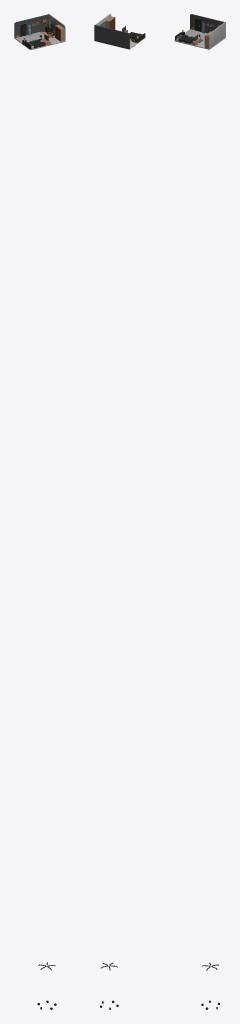
The model's file is bedroom.glb.
3 renders of one model, left to right at view 1: azimuth 30°, elevation 25°; view 2: azimuth 150°, elevation 25°; view 3: azimuth 330°, elevation 25°, orthographic.
Parts seen in each view (by area): view 1: Wall 01, Merged Geometry.007; view 2: Wall 01; view 3: Merged Geometry.007, Wall 01.
Part boxes in pixels (<box>): Wall 01: <box>14,14,49,37</box>; Merged Geometry.007: <box>14,14,65,50</box>; Wall 01: <box>94,25,129,49</box>; Merged Geometry.007: <box>174,22,224,49</box>; Wall 01: <box>190,14,225,37</box>.
Size of the model in its own units: 9.28 by 247 by 7.35.
